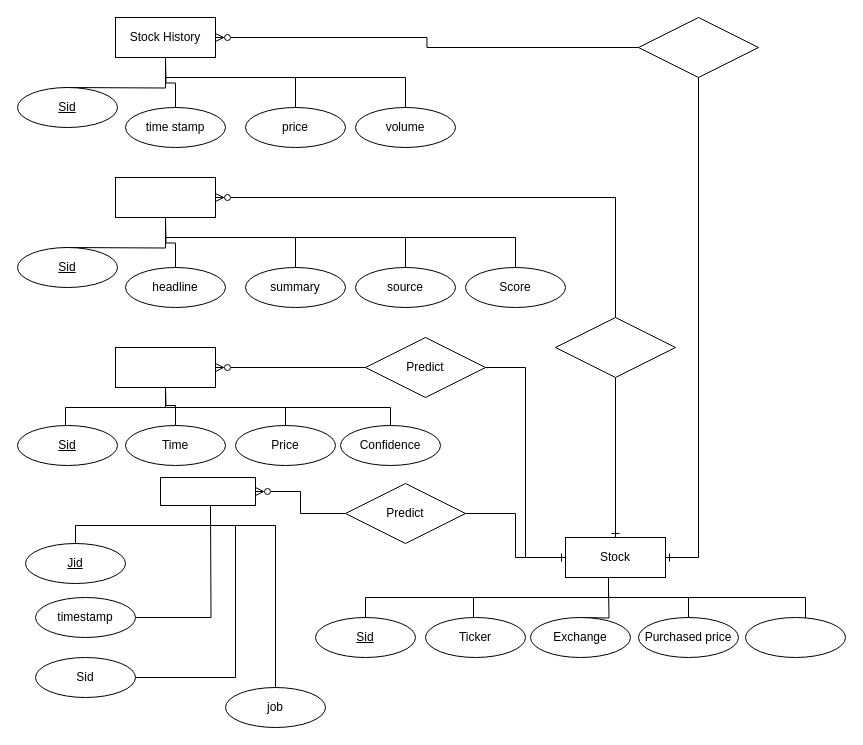
Some shapes in this 863 by 745 pixel diagram are drawn without their labels. The shapes that lost their labels are listed below. From the top down, each one's centre as x and y in pixels, then its label:
the point at 698,47: OF
the point at 165,197: News
the point at 165,367: Prediction
the point at 615,347: Refer
the point at 208,491: Jobs
the point at 795,637: #Stocks
